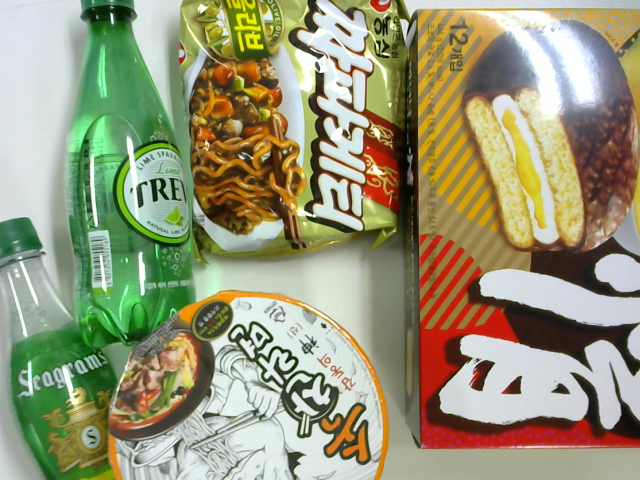Choco_Pie_Banana: (411, 14, 637, 456)
Hejangchan: (111, 294, 387, 480)
Olive_Chapaghetti: (177, 2, 419, 258)
Seagram_Lemon_Carbonated_Water: (1, 216, 117, 480)
Treviraim_500ml: (67, 4, 203, 340)
